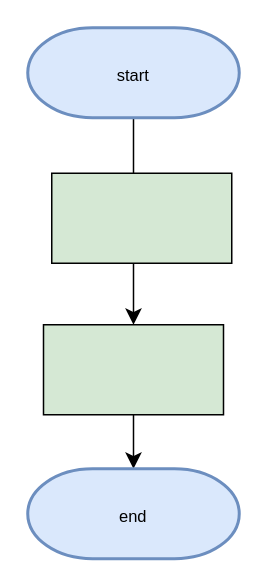
This 266x585 diagram has some shape labels left out. Here are the shapes that lost their labels. From the top down, the centre of each, then its label:
[141,217]: write the suitable command
[133,369]: write the character to lcd
